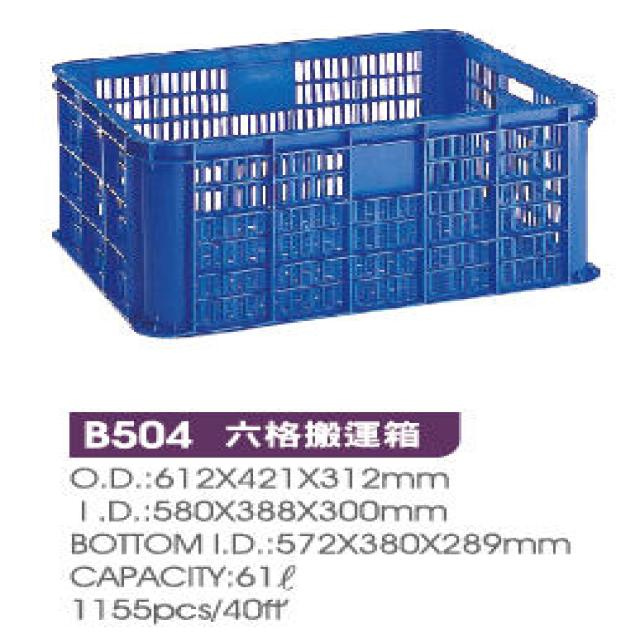basket: (35, 6, 617, 349)
